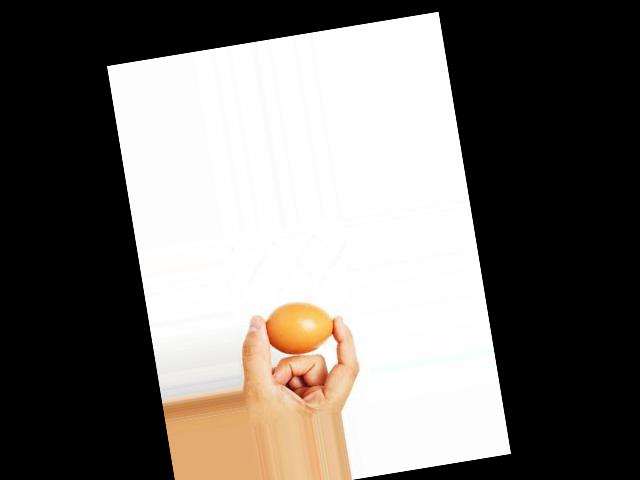egg: (262, 295, 338, 359)
